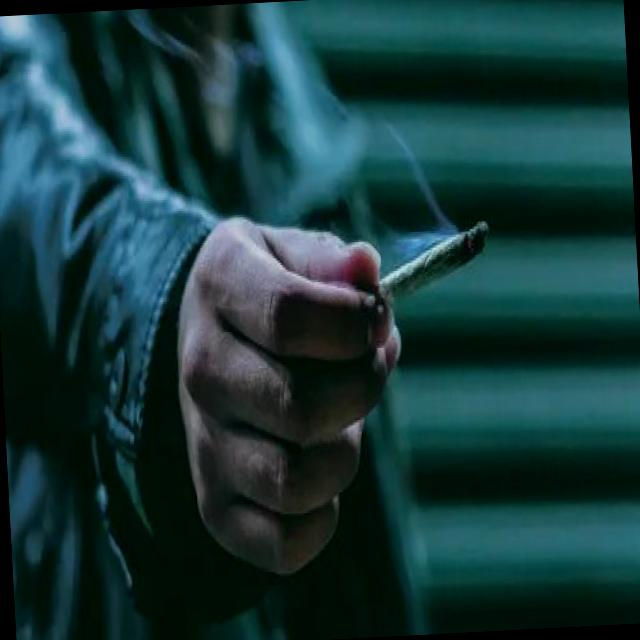smoke: (363, 213, 500, 320)
